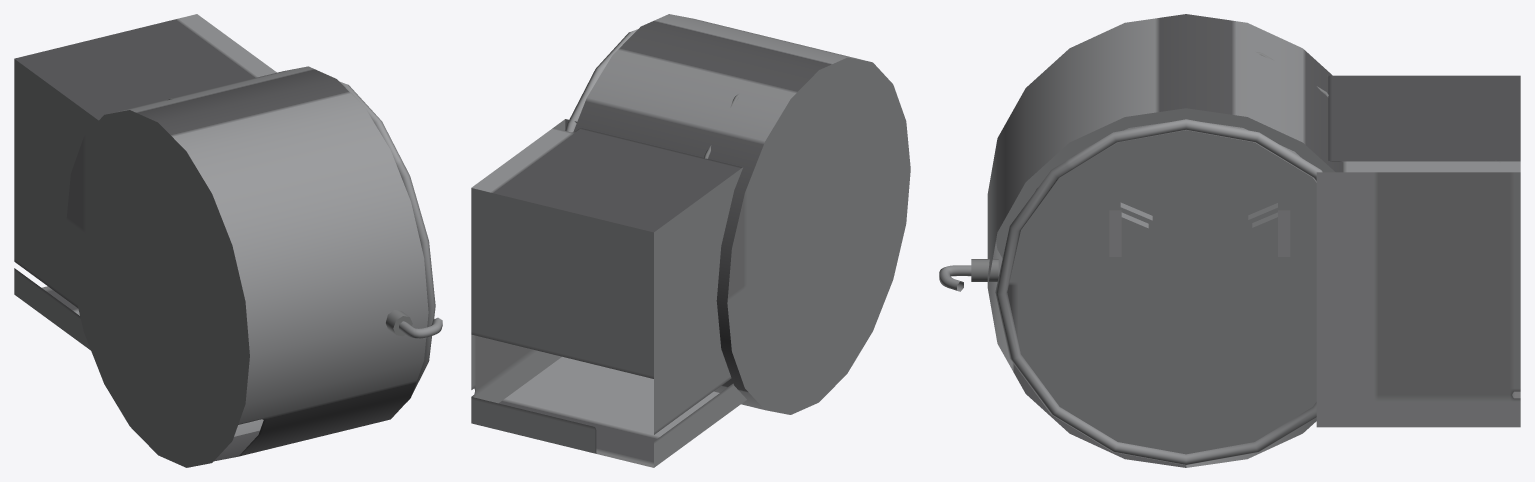
3 renders of one model, left to right at view 1: azimuth 30°, elevation 25°; view 2: azimuth 150°, elevation 25°; view 3: azimuth 270°, elevation 25°, orthographic. The views are drawn at different scales.
Bounding box in the file's own units: 0.9 × 1.46 × 2.14.
